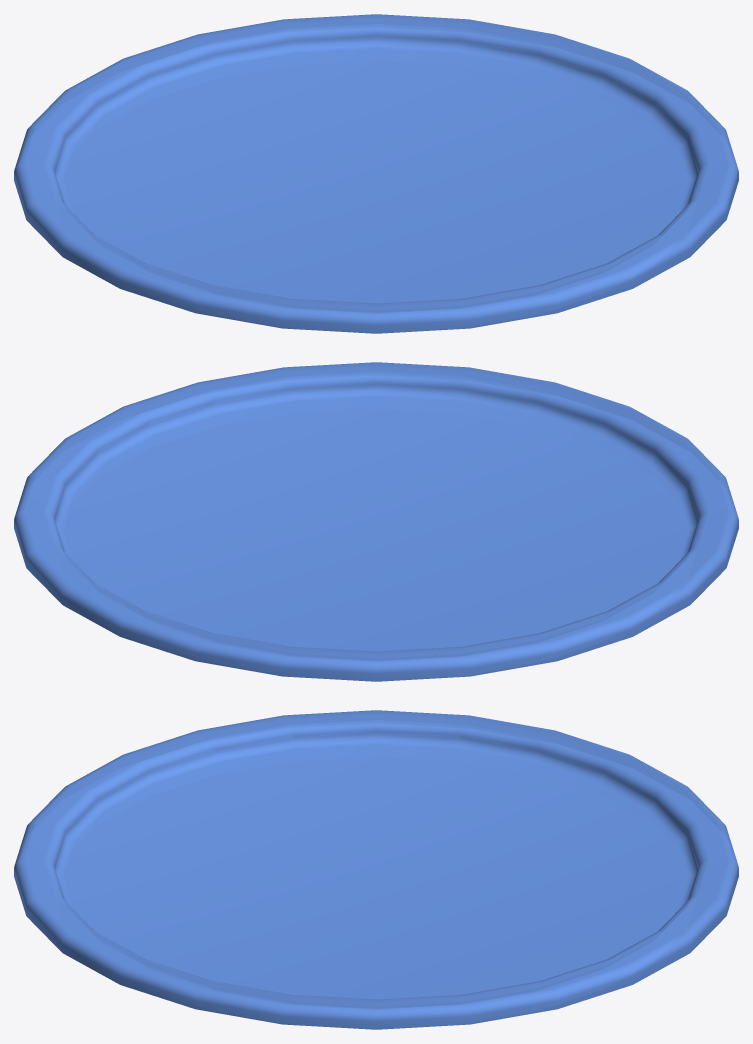
The model's file is original-10.obj.
3 renders of one model, top to bottom at view 1: azimuth 30°, elevation 25°; view 2: azimuth 150°, elevation 25°; view 3: azimuth 270°, elevation 25°, orthographic.
Parts seen in each view (by area): view 1: MW_Plate1/MW_Plate/mesh14/mesh14-geometry#mesh14-geometry; view 2: MW_Plate1/MW_Plate/mesh14/mesh14-geometry#mesh14-geometry; view 3: MW_Plate1/MW_Plate/mesh14/mesh14-geometry#mesh14-geometry.
Part boxes in pixels (x1,y1,x2,y2): MW_Plate1/MW_Plate/mesh14/mesh14-geometry#mesh14-geometry: [14, 14, 738, 333]; MW_Plate1/MW_Plate/mesh14/mesh14-geometry#mesh14-geometry: [14, 362, 738, 681]; MW_Plate1/MW_Plate/mesh14/mesh14-geometry#mesh14-geometry: [14, 710, 738, 1029].
Size of the model in its own units: 0.6345 by 0.0317 by 0.6345.
